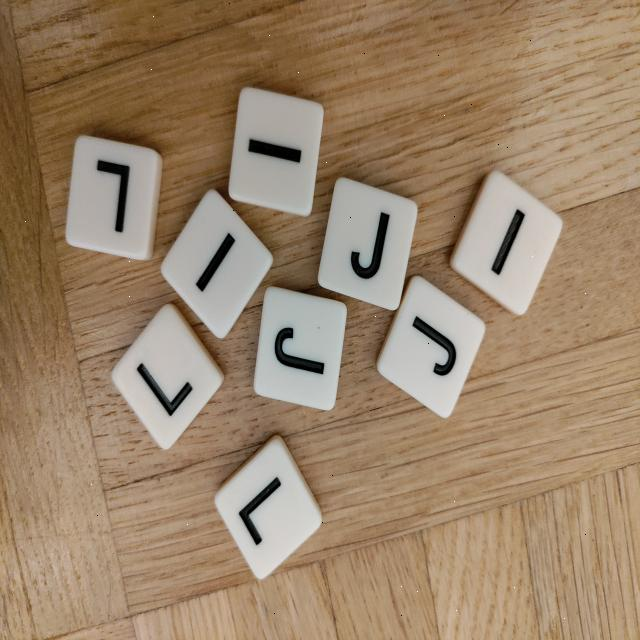i: (157, 185, 276, 344), (447, 165, 566, 321), (227, 85, 326, 218)
j: (372, 270, 489, 423), (315, 175, 421, 313), (252, 285, 349, 411)
l: (108, 298, 227, 455), (211, 432, 328, 583), (63, 133, 164, 262)
